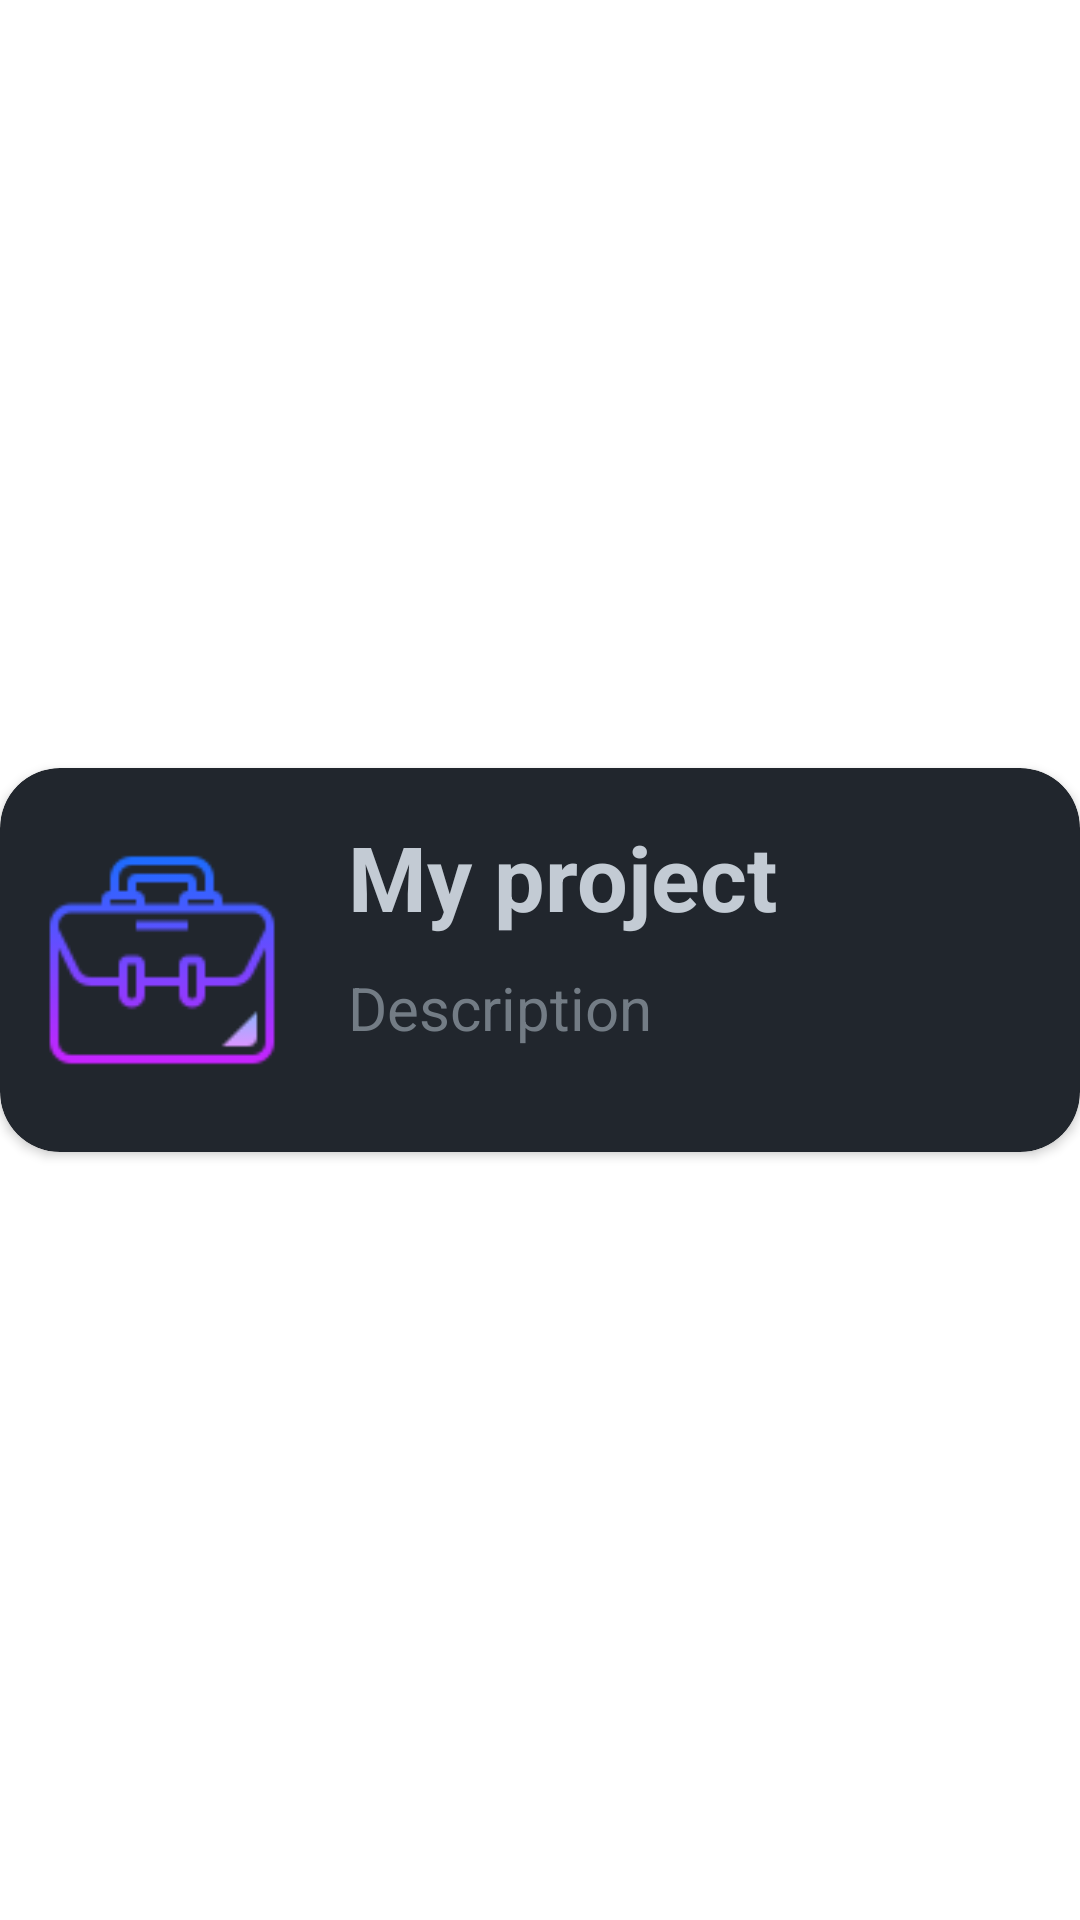

Screen size 1080 × 1920. Icon name, then its box in pixels as (x1, y1, x2, y2):
project portfolio: (49, 855, 275, 1065)
